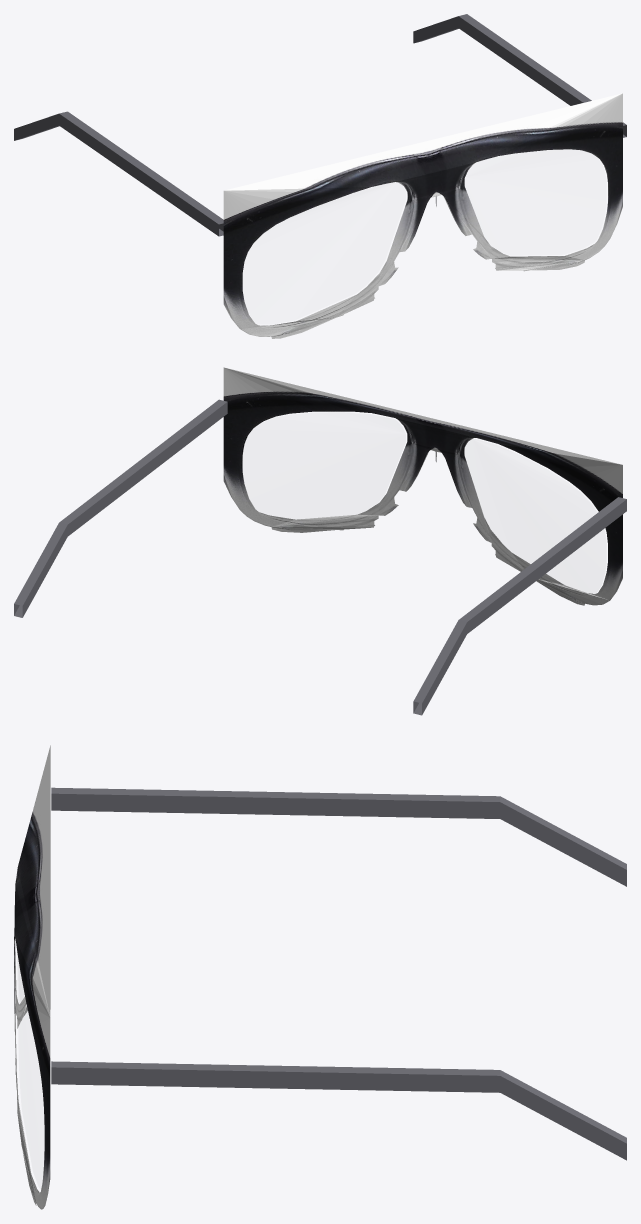
The model's file is gothamstyle-183_black-fade.glb.
The picture shows the model from 3 angles, top to bottom: view 1: azimuth 30°, elevation 25°; view 2: azimuth 150°, elevation 25°; view 3: azimuth 270°, elevation 25°; orthographic projection. The views are drawn at different scales.
Visible parts, largest first — view 1: frame_front, temple_viewer_left, temple_viewer_right; view 2: frame_front, temple_viewer_left, temple_viewer_right; view 3: temple_viewer_right, temple_viewer_left, frame_front.
Boxes of the visible parts, x1,y1,x2,y2 form: frame_front: (223, 93, 622, 338); temple_viewer_left: (14, 111, 223, 236); temple_viewer_right: (413, 14, 626, 137); frame_front: (223, 367, 622, 605); temple_viewer_left: (413, 497, 626, 715); temple_viewer_right: (14, 399, 227, 617); temple_viewer_right: (51, 1061, 626, 1160); temple_viewer_left: (51, 787, 626, 886); frame_front: (14, 745, 50, 1209).
Bounding box in the file's own units: 0.1414 × 0.0517 × 0.131.
3 materials, 2 textured.
